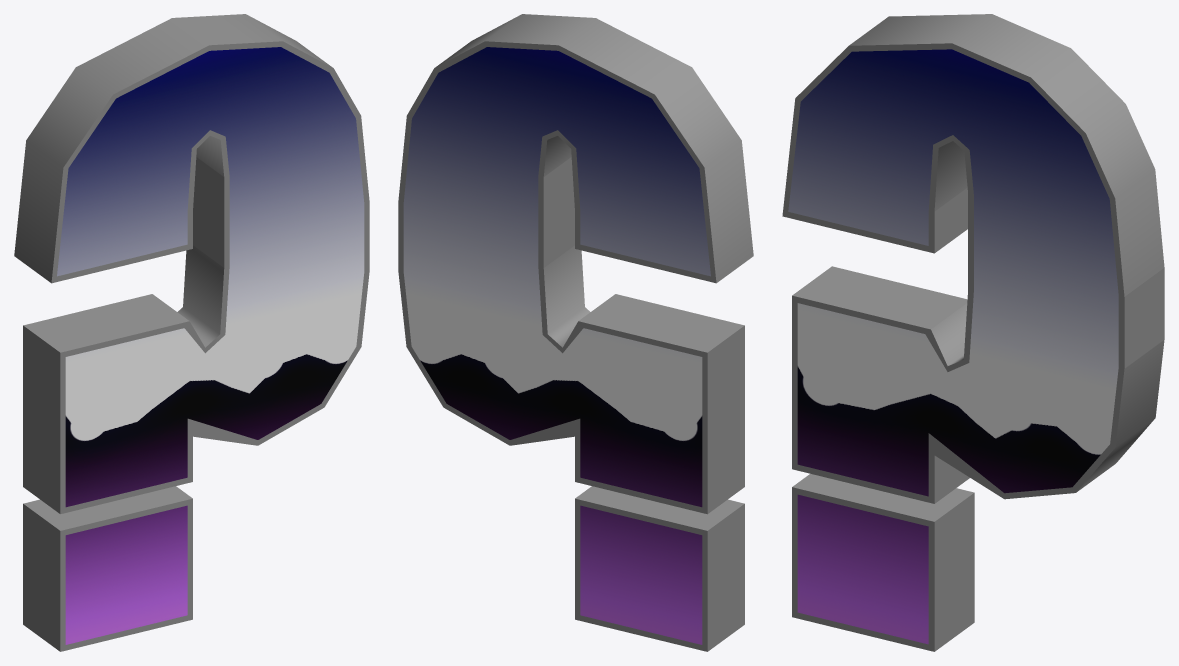
File: Question.FBX
The picture shows the model from 3 angles, left to right: view 1: azimuth 30°, elevation 25°; view 2: azimuth 150°, elevation 25°; view 3: azimuth 330°, elevation 25°; orthographic projection. The views are drawn at different scales.
Parts seen in each view (by area): view 1: Question, Question_outline; view 2: Question, Question_outline; view 3: Question, Question_outline.
Part boxes in pixels (x1=…): Question: x1=57, y1=47, x2=364, y2=644; Question_outline: x1=14, y1=14, x2=369, y2=651; Question: x1=403, y1=47, x2=710, y2=644; Question_outline: x1=398, y1=14, x2=753, y2=651; Question: x1=788, y1=49, x2=1118, y2=644; Question_outline: x1=782, y1=14, x2=1164, y2=651.
Bounding box in the file's own units: 59.16 × 101 × 12.
2 materials, 1 textured.
